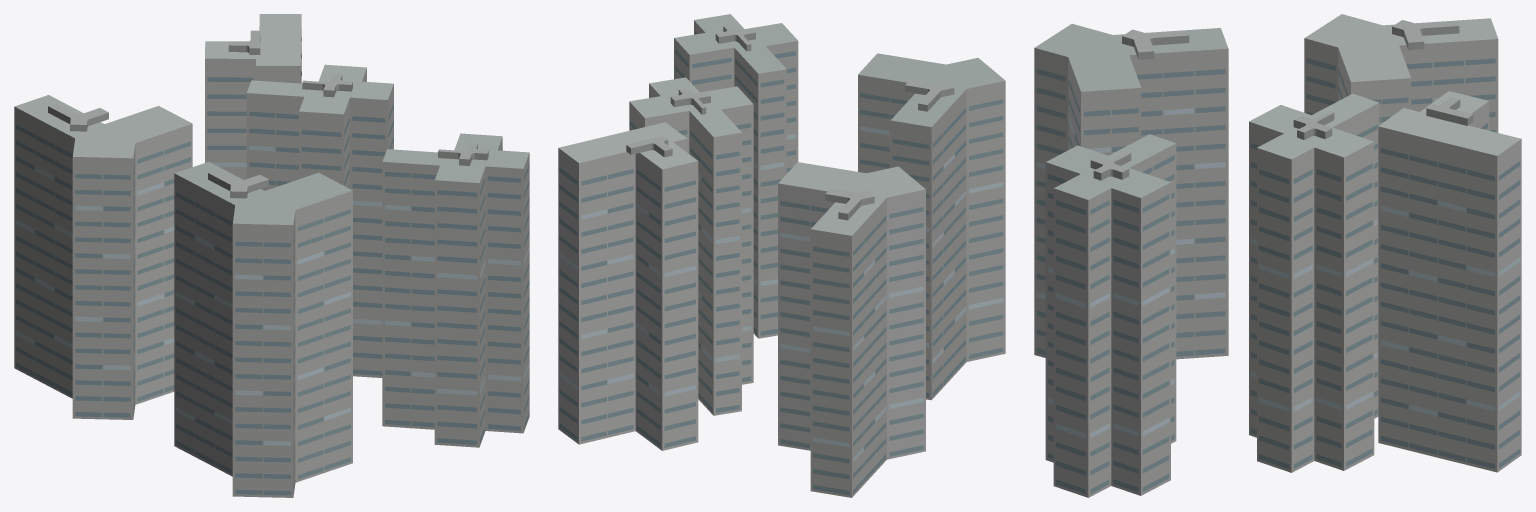
Rendered from apt-a10020907.glb.
The picture shows the model from 3 angles, left to right: view 1: azimuth 30°, elevation 25°; view 2: azimuth 150°, elevation 25°; view 3: azimuth 270°, elevation 25°; orthographic projection. The views are drawn at different scales.
Parts seen in each view (by area): view 1: apt-a10020907; view 2: apt-a10020907; view 3: apt-a10020907.
Part boxes in pixels (left/top/right/bottom): apt-a10020907: left=14, top=14, right=529, bottom=497; apt-a10020907: left=558, top=14, right=1005, bottom=497; apt-a10020907: left=1034, top=14, right=1521, bottom=497.
Size of the model in its own units: 130 by 104 by 142.
